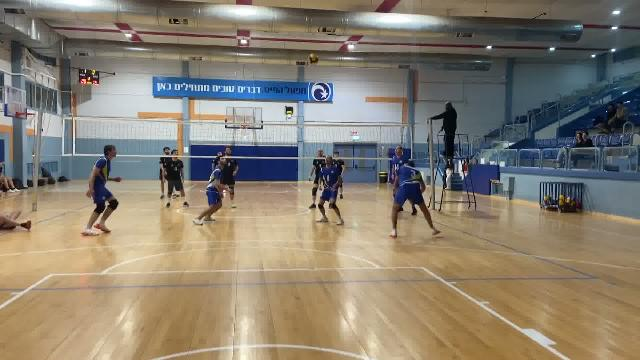ball: (307, 53, 321, 69)
